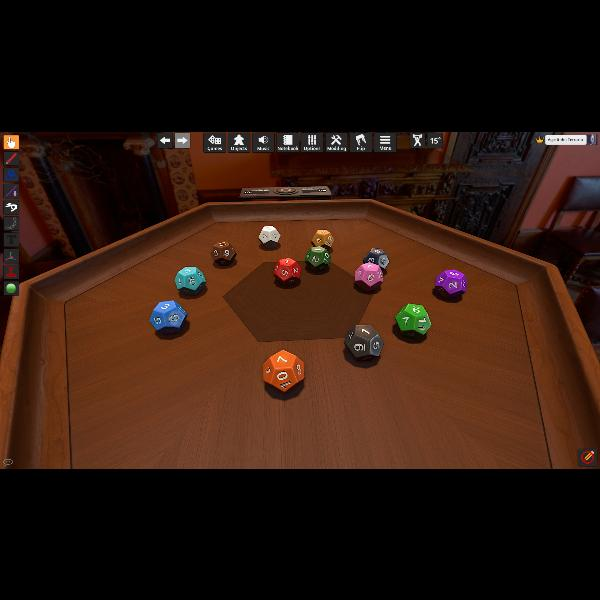d12: (264, 349, 306, 391), (344, 324, 382, 362), (150, 300, 188, 336), (394, 304, 426, 336), (435, 270, 467, 298), (176, 266, 206, 294), (354, 262, 382, 290), (272, 258, 300, 284), (305, 245, 331, 269), (362, 246, 388, 270), (212, 241, 234, 265), (310, 228, 334, 248), (260, 225, 280, 245)
